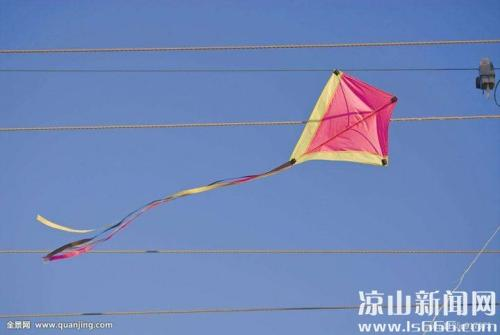kite: (33, 66, 401, 263)
